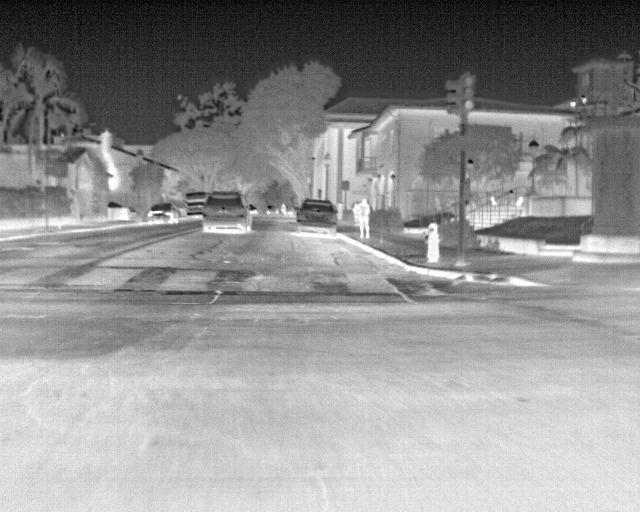bicycle: (202, 191, 251, 235), (296, 197, 341, 234), (144, 201, 180, 225), (184, 191, 206, 217), (262, 202, 276, 217), (245, 202, 259, 215)
empty: (355, 195, 371, 238), (350, 202, 362, 228), (512, 194, 525, 207)
